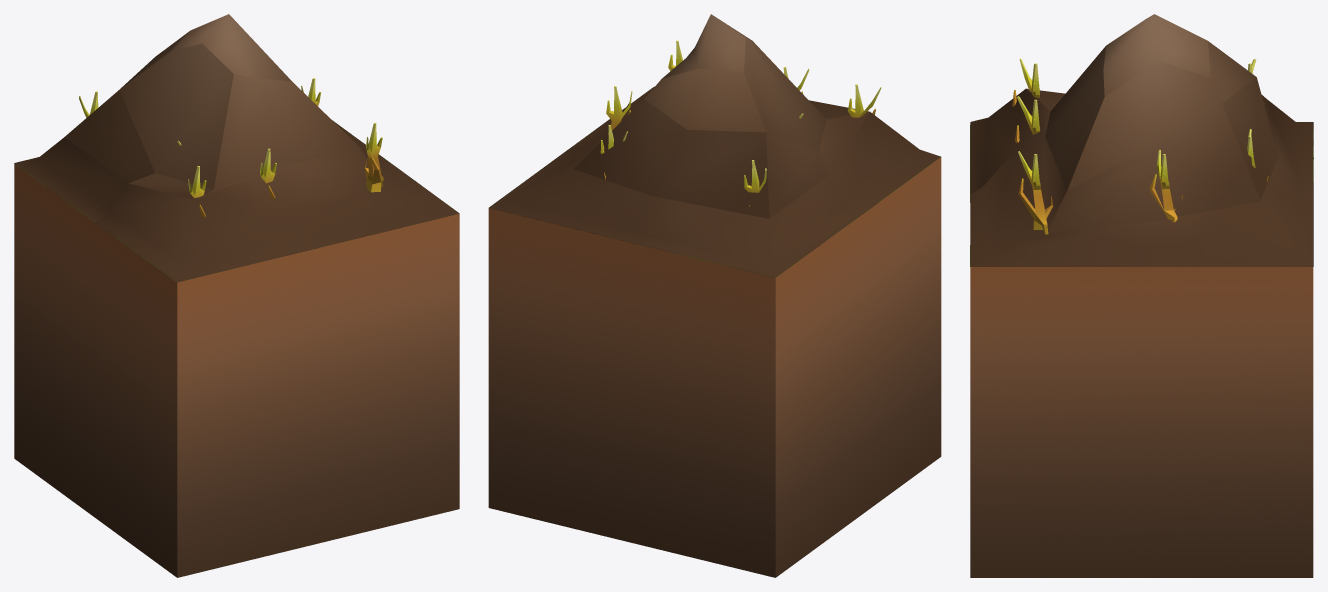
Rendered from tiles_mesh.fbx.
3 renders of one model, left to right at view 1: azimuth 30°, elevation 25°; view 2: azimuth 150°, elevation 25°; view 3: azimuth 270°, elevation 25°, orthographic. The views are drawn at different scales.
Visible parts, largest first — view 1: empty_bottom, mountain_top, field_top; view 2: empty_bottom, mountain_top, field_top; view 3: empty_bottom, mountain_top, field_top.
Part boxes in pixels (x1=…): empty_bottom: x1=14, y1=163, x2=459, y2=577; mountain_top: x1=14, y1=14, x2=459, y2=282; field_top: x1=79, y1=78, x2=383, y2=217; empty_bottom: x1=488, y1=157, x2=941, y2=577; mountain_top: x1=489, y1=14, x2=940, y2=277; field_top: x1=600, y1=40, x2=881, y2=206; empty_bottom: x1=970, y1=267, x2=1313, y2=577; mountain_top: x1=970, y1=14, x2=1313, y2=266; field_top: x1=1012, y1=58, x2=1268, y2=234.
Bounding box in the file's own units: 1 × 1.58 × 1.
